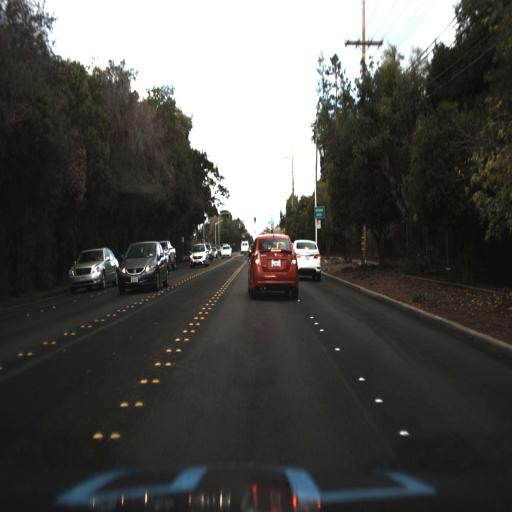car: (247, 228, 299, 300), (118, 235, 170, 298), (115, 236, 169, 296), (69, 247, 117, 292), (293, 238, 326, 281), (158, 237, 180, 272), (188, 241, 212, 269), (188, 241, 208, 264), (238, 237, 252, 255), (220, 241, 232, 260)
